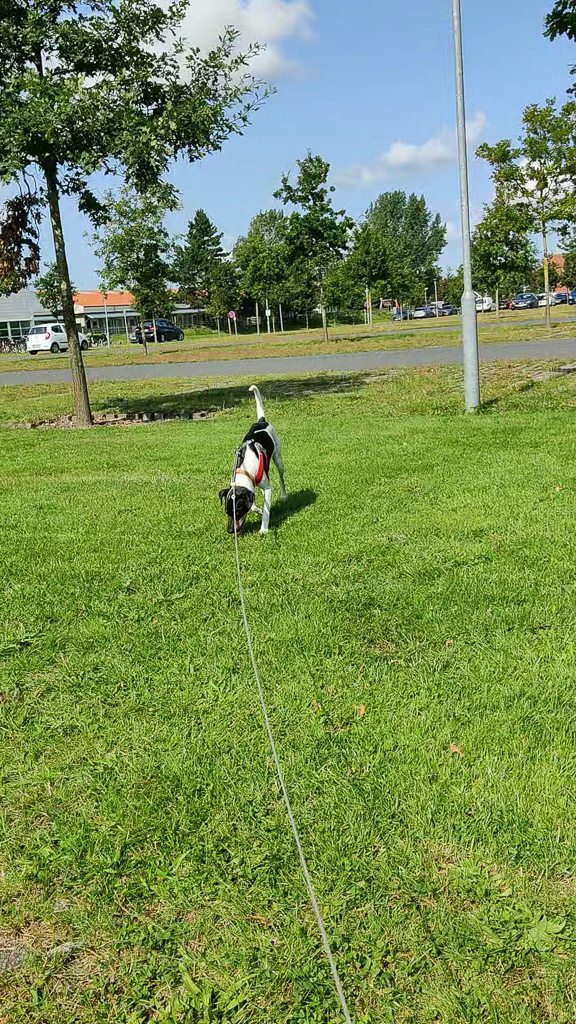Dog: (205, 382, 293, 538)
